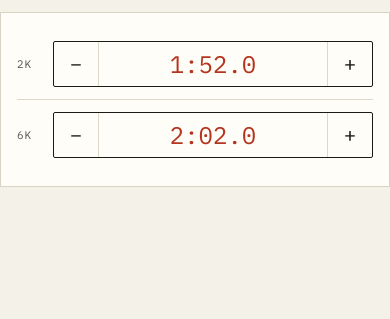
Test case: BaselineEditor › stages a typed entry into a confirm block without saving
This screenshot has width=390, height=319.
Type "151" into the field named "2k split" at (213,64), box [107,42,319,86]
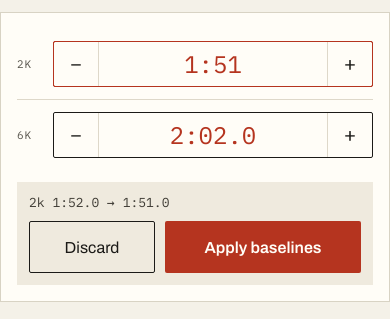
Now the text "2k 1:52.0 → 1:51.0" is shown, box [29,194,170,211]
